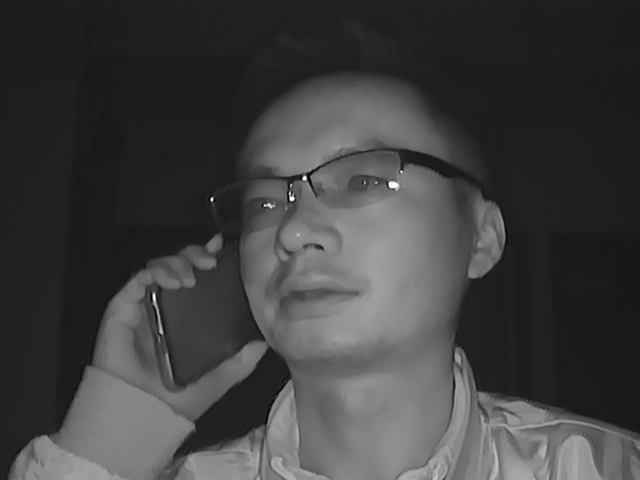hand: (99, 239, 224, 415)
